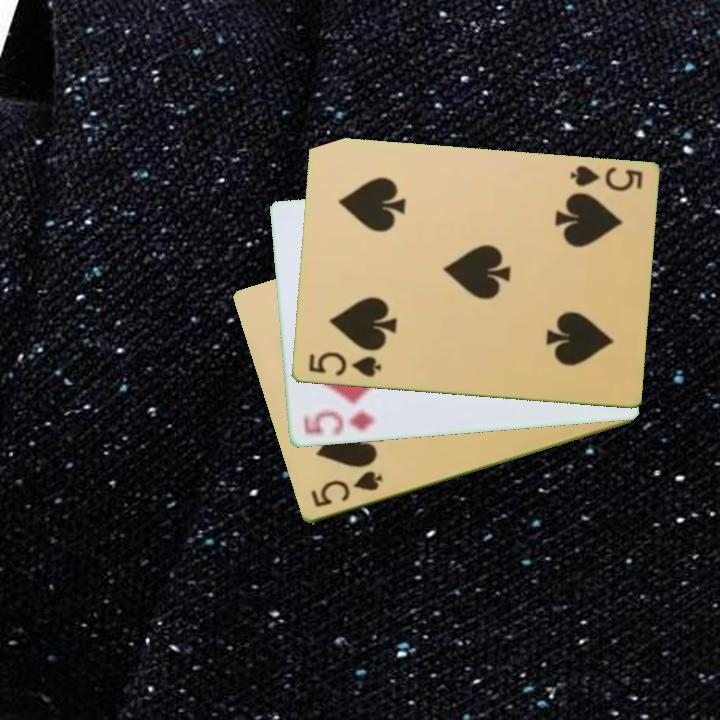5d: (299, 407, 377, 439)
5s: (306, 468, 386, 511), (305, 348, 384, 381), (566, 162, 645, 195)
